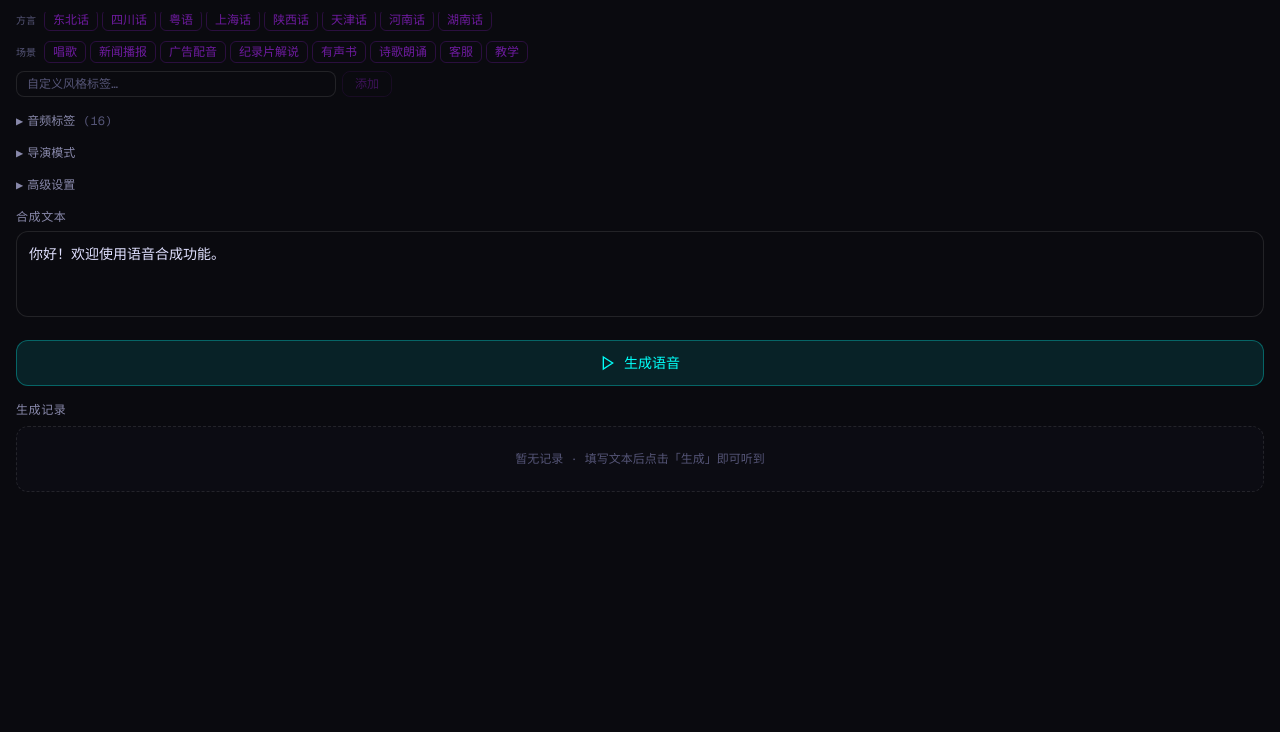
Test: TtsTool › error handling › shows error on network failure
(page scrolled)
Click the button "生成语音" at (640, 362), box [16,340,1264,386]
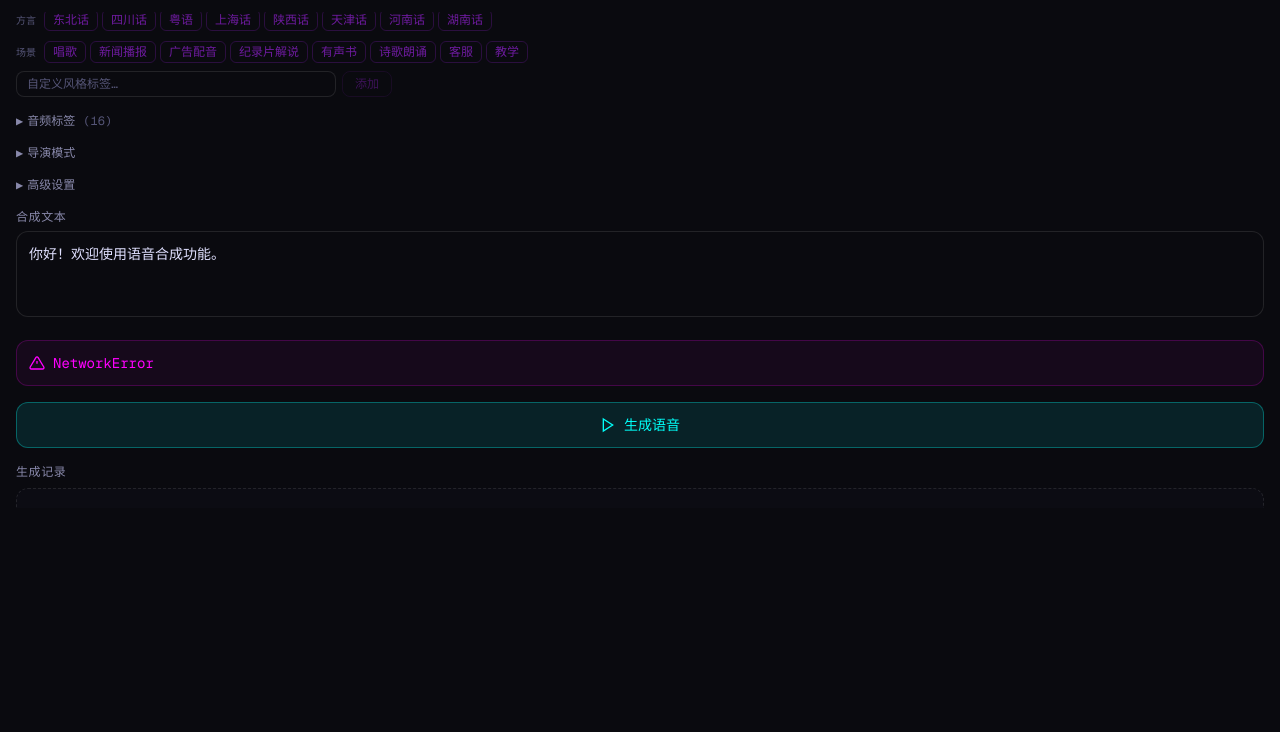
expect the text "NetworkError" is shown: met, box [16,340,1264,386]
